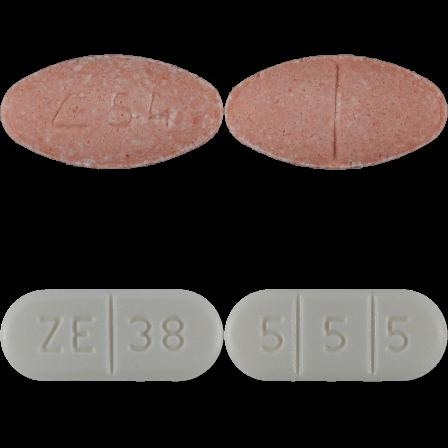68788-9765: (0, 0, 224, 224)
